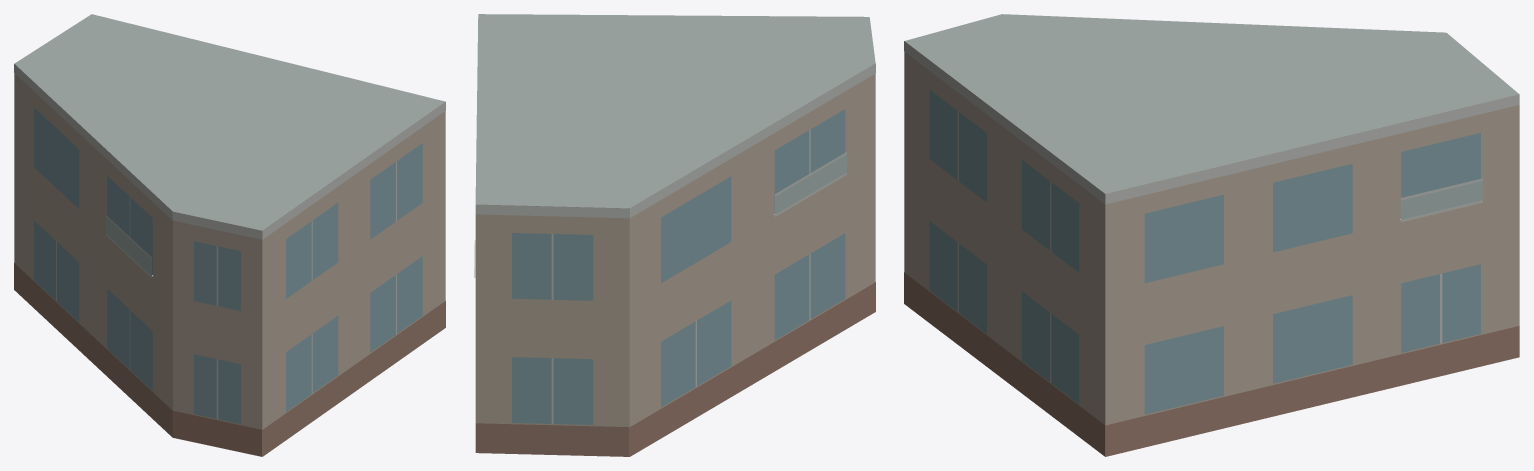
Rendered from survey-upis-32664545.glb.
3 views of the same model, side by side, from view 1: azimuth 30°, elevation 25°; view 2: azimuth 150°, elevation 25°; view 3: azimuth 270°, elevation 25° (orthographic). The views are drawn at different scales.
Parts seen in each view (by area): view 1: survey-upis-32664545.tmp; view 2: survey-upis-32664545.tmp; view 3: survey-upis-32664545.tmp.
Part boxes in pixels (x1,y1,x2,y2): survey-upis-32664545.tmp: [14, 14, 445, 456]; survey-upis-32664545.tmp: [474, 14, 875, 456]; survey-upis-32664545.tmp: [904, 14, 1519, 456].
Size of the model in its own units: 8.97 by 6.1 by 12.95.
